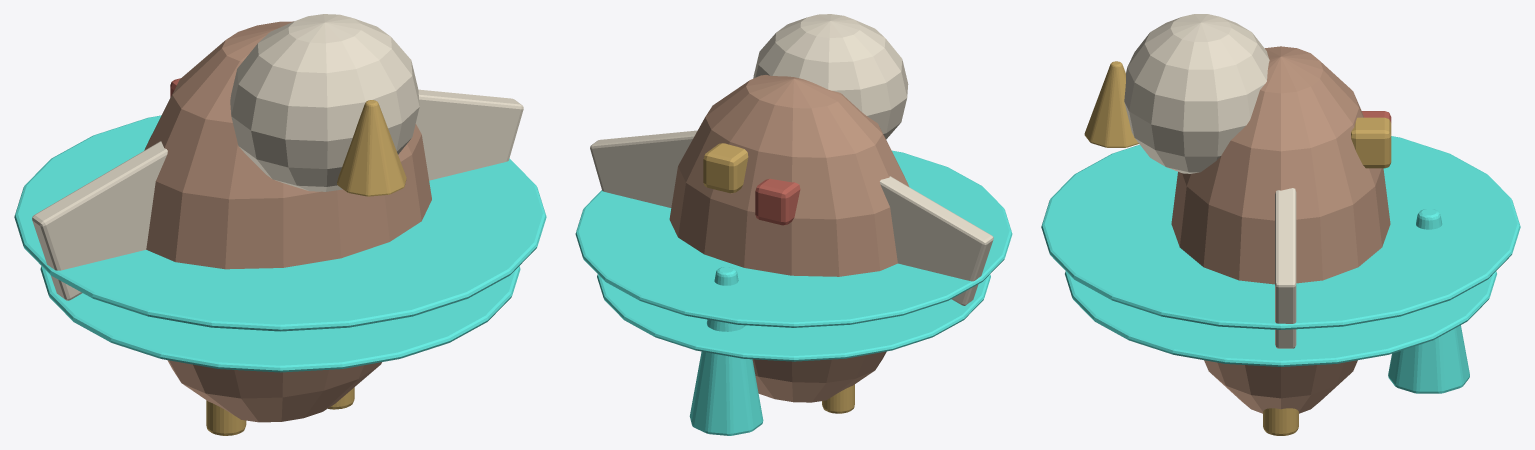
The model's file is Avian.fbx.
The picture shows the model from 3 angles, left to right: view 1: azimuth 30°, elevation 25°; view 2: azimuth 150°, elevation 25°; view 3: azimuth 270°, elevation 25°; orthographic projection. The views are drawn at different scales.
Parts seen in each view (by area): view 1: GuardrailRing_1, AvianBody, Head, GuardrailRing_0, RightWing, LeftWing, CivicBeak, RightLegMesh; view 2: AvianBody, GuardrailRing_1, GuardrailRing_0, Head, RightWing, MemoryTail, LeftWing, BurdenCrate_1, BurdenCrate_0, RightLegMesh; view 3: GuardrailRing_1, AvianBody, Head, GuardrailRing_0, MemoryTail, LeftWing, CivicBeak, BurdenCrate_1, LeftLegMesh.
Part boxes in pixels (x1,y1,x2,y2): GuardrailRing_1: [14, 115, 546, 331]; AvianBody: [144, 21, 431, 422]; Head: [230, 14, 419, 191]; GuardrailRing_0: [40, 266, 520, 372]; RightWing: [32, 141, 167, 300]; LeftWing: [415, 89, 523, 180]; CivicBeak: [337, 100, 406, 196]; RightLegMesh: [206, 400, 246, 435]; AvianBody: [669, 75, 909, 402]; GuardrailRing_1: [575, 150, 1012, 327]; GuardrailRing_0: [597, 274, 990, 361]; Head: [753, 14, 908, 139]; RightWing: [880, 176, 993, 305]; MemoryTail: [689, 267, 763, 435]; LeftWing: [590, 130, 697, 207]; BurdenCrate_1: [703, 143, 748, 193]; BurdenCrate_0: [755, 178, 800, 225]; RightLegMesh: [822, 384, 854, 413]; GuardrailRing_1: [1041, 136, 1520, 329]; AvianBody: [1171, 46, 1390, 413]; Head: [1124, 14, 1269, 173]; GuardrailRing_0: [1065, 271, 1496, 366]; MemoryTail: [1388, 209, 1469, 393]; LeftWing: [1275, 188, 1296, 348]; CivicBeak: [1084, 61, 1138, 147]; BurdenCrate_1: [1351, 117, 1391, 168]; LeftLegMesh: [1263, 408, 1298, 435].
Size of the model in its own units: 2.14 by 1.8 by 2.04.
